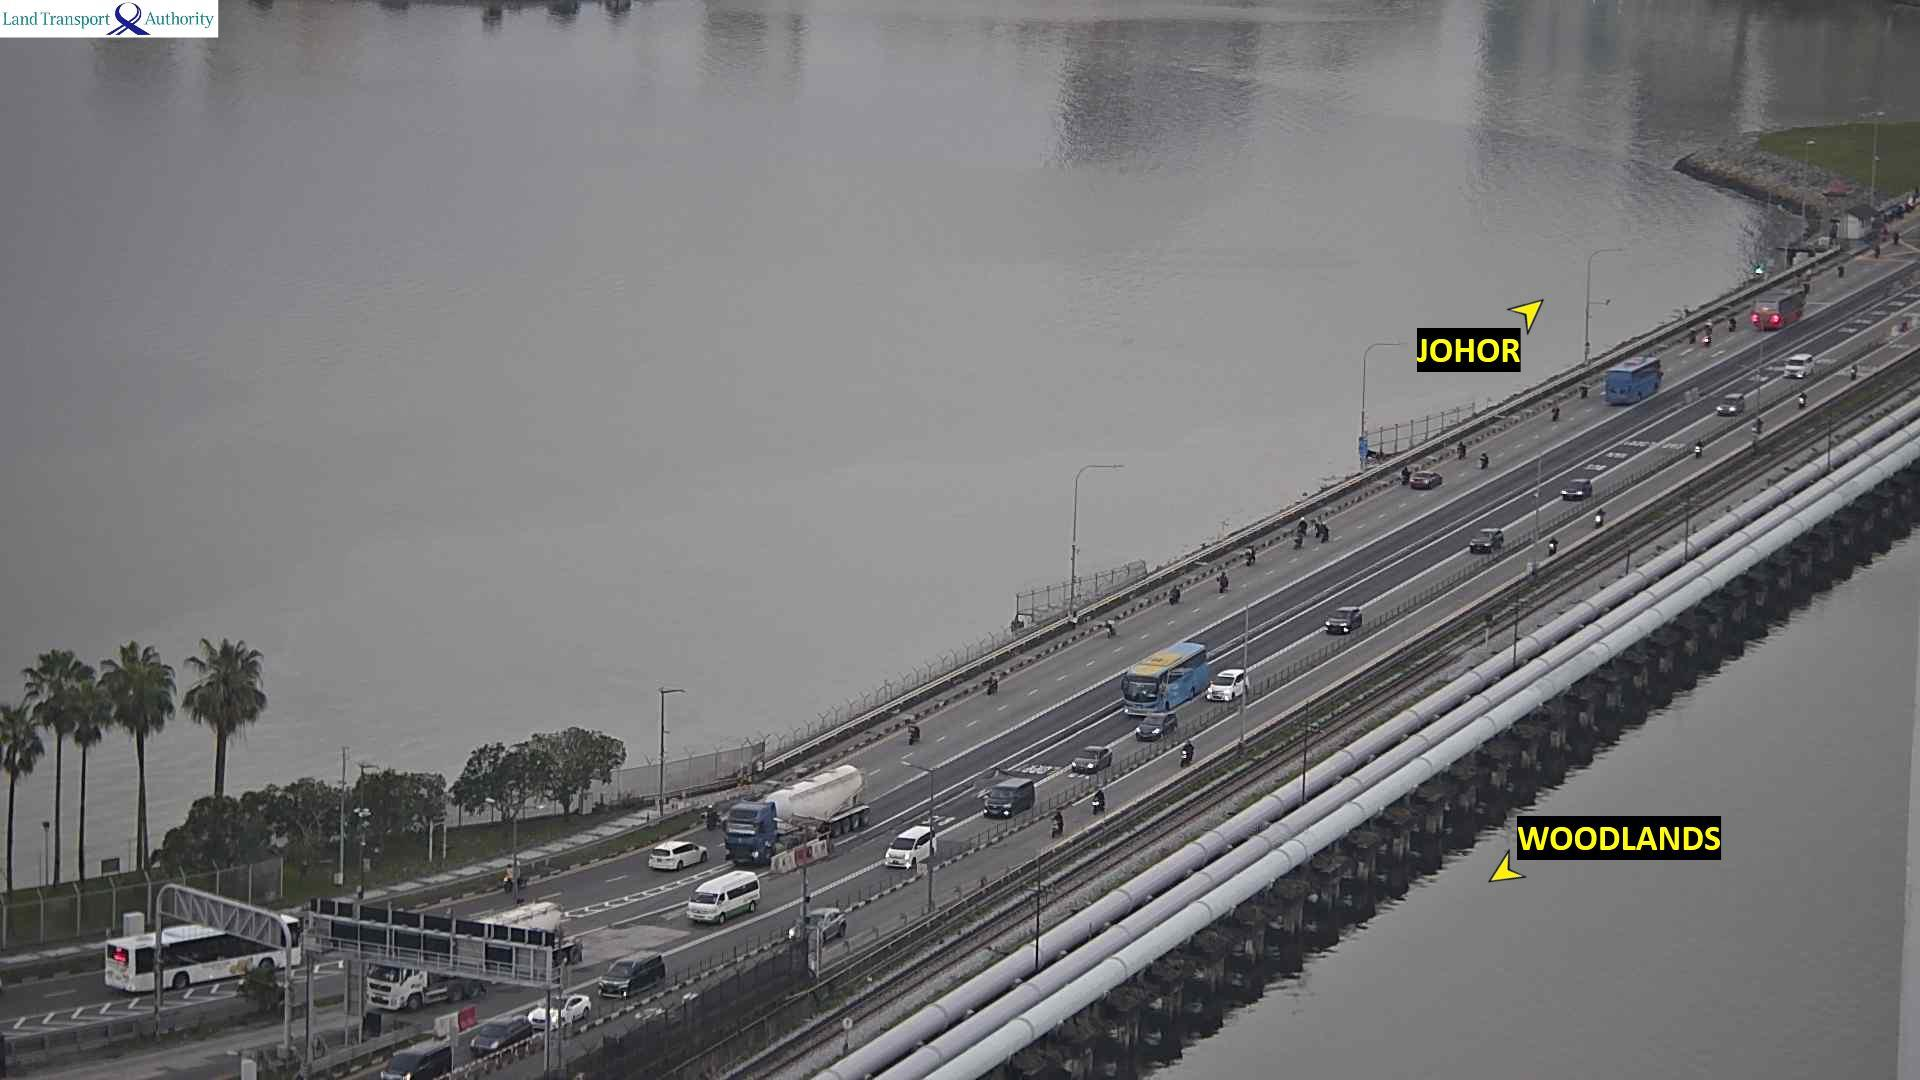vehicle-causeway-johor: (108, 927, 285, 980), (1605, 357, 1660, 406), (1753, 291, 1804, 331), (649, 841, 704, 868), (1414, 471, 1443, 489), (1292, 516, 1305, 545), (909, 720, 924, 742), (986, 674, 1001, 698), (504, 864, 520, 885), (1168, 584, 1182, 604), (1104, 621, 1117, 640), (1578, 380, 1590, 398), (1319, 522, 1329, 542), (1217, 572, 1226, 592), (1246, 549, 1257, 566), (1687, 327, 1697, 344), (1456, 440, 1466, 456), (1551, 404, 1560, 421), (1400, 469, 1410, 485), (1705, 320, 1714, 334), (1727, 316, 1737, 330), (1480, 454, 1487, 467), (1803, 281, 1811, 293), (1837, 265, 1842, 277), (1874, 247, 1879, 257)
vehicle-causeway-singapore: (367, 899, 582, 1009), (729, 773, 872, 845), (1120, 644, 1213, 702), (690, 877, 765, 915), (381, 1040, 458, 1077), (881, 823, 949, 864), (465, 1015, 539, 1050), (597, 956, 667, 992), (687, 891, 760, 924), (978, 775, 1036, 815), (790, 907, 848, 945), (529, 998, 589, 1025), (1208, 670, 1245, 703), (1324, 607, 1365, 633), (1068, 750, 1110, 774), (1469, 527, 1503, 554), (1135, 720, 1174, 740), (1716, 394, 1743, 418), (1784, 355, 1813, 377), (1560, 480, 1592, 498), (1178, 741, 1195, 766), (1091, 787, 1106, 812), (1050, 814, 1063, 841), (1592, 506, 1606, 527), (1693, 438, 1704, 456), (1753, 419, 1763, 435), (1850, 364, 1858, 381), (1549, 537, 1557, 554), (1799, 393, 1808, 407)
